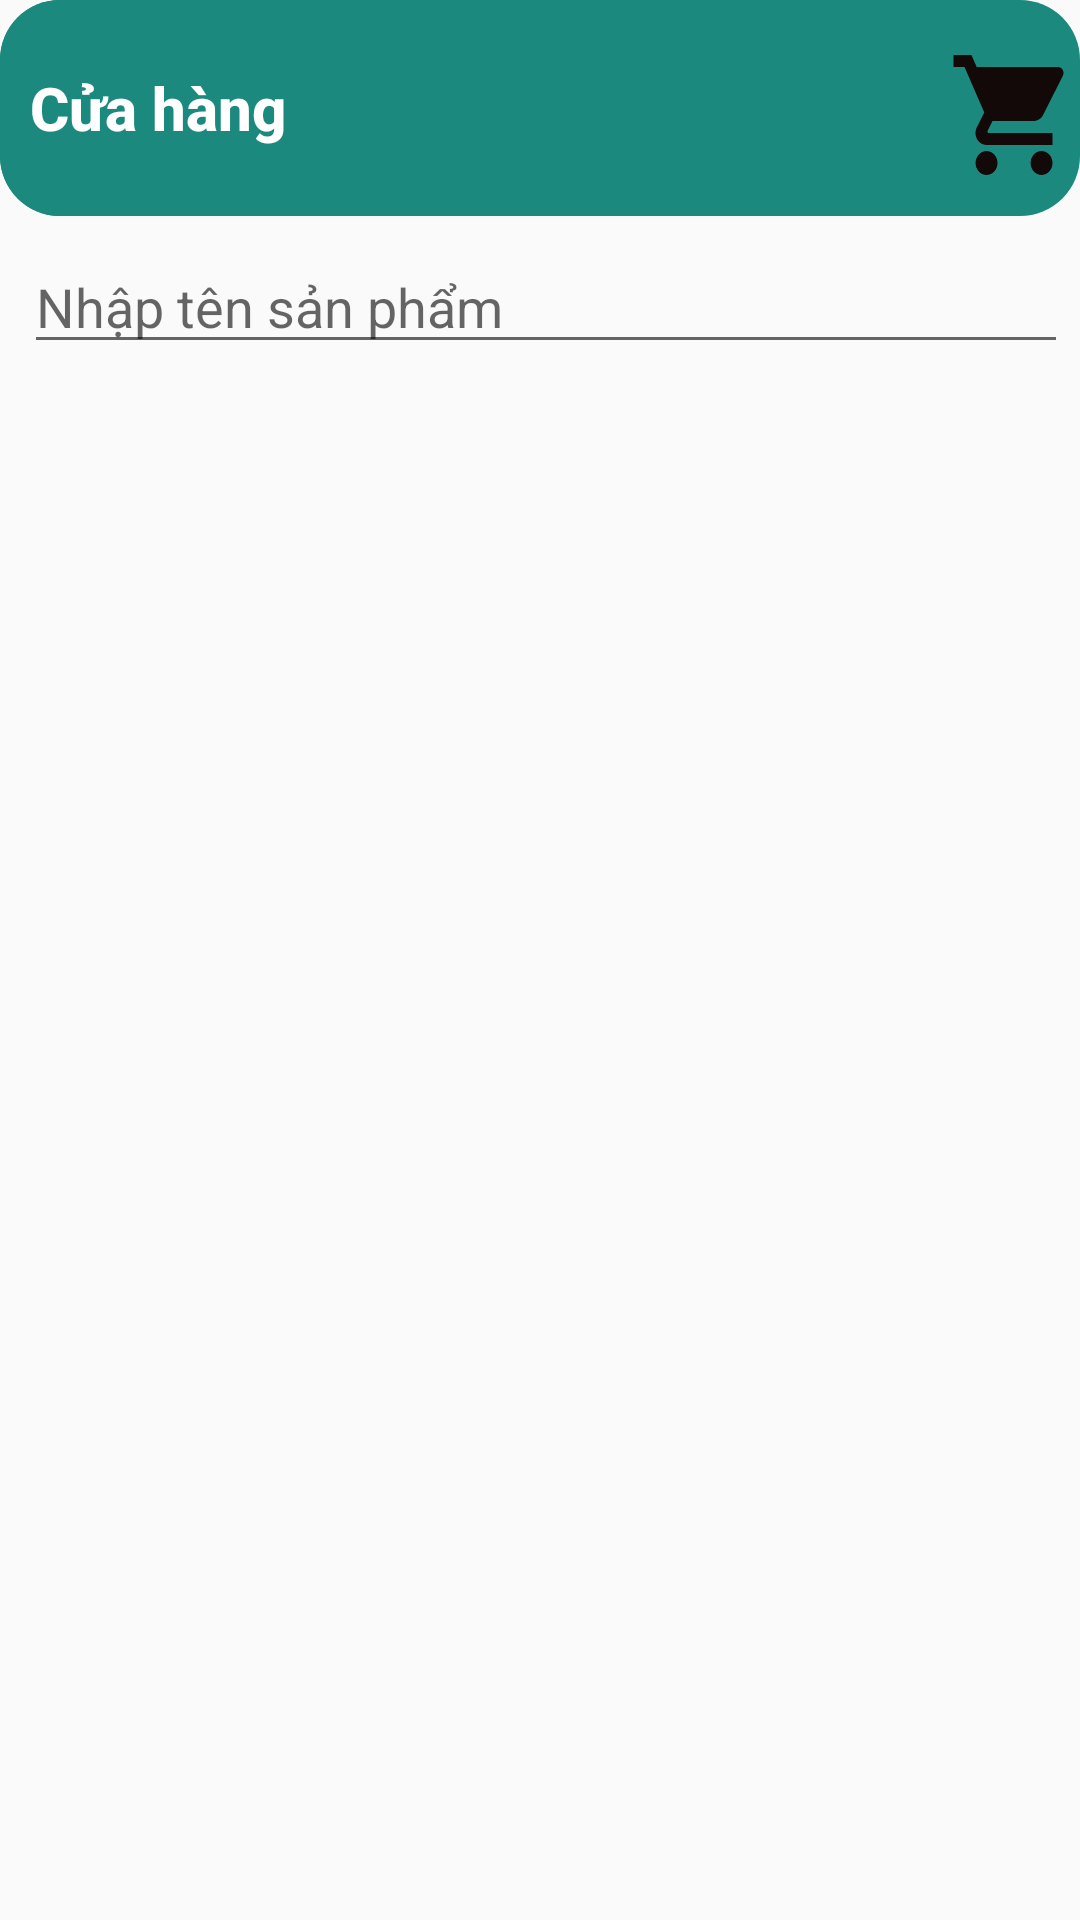

Icon click points for this 1080px x 1920px phone screenshot, format point (x, y):
cart: point (1008, 115)
